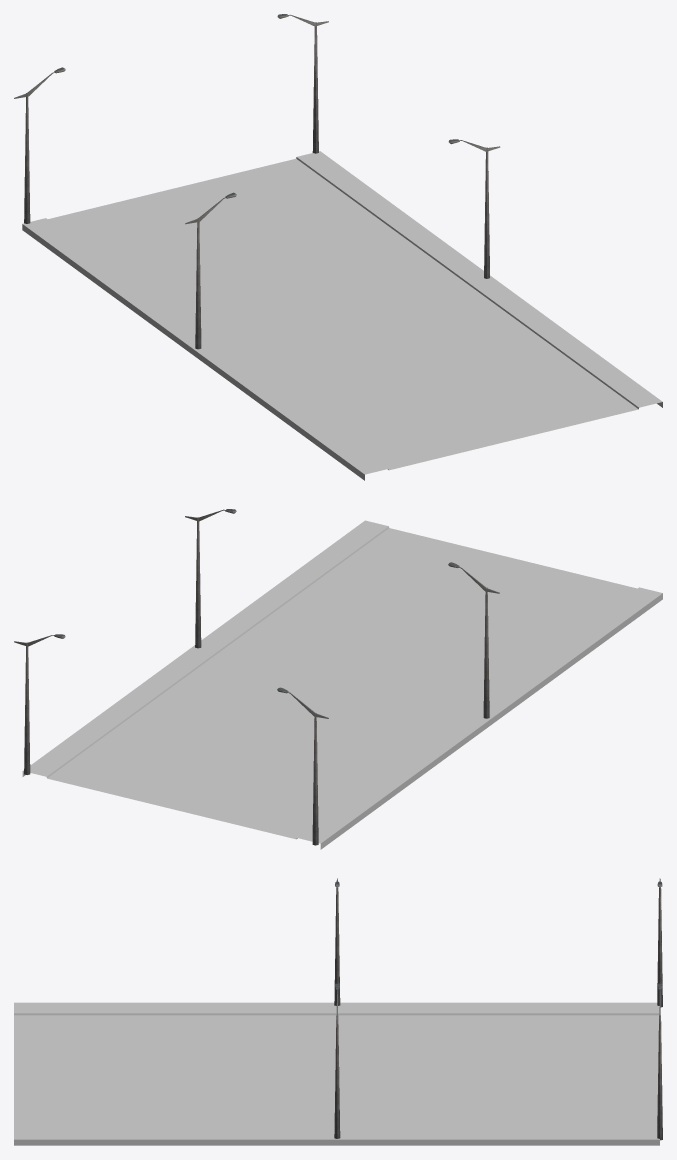
File: Big_Road_Short.FBX
3 renders of one model, top to bottom at view 1: azimuth 30°, elevation 25°; view 2: azimuth 150°, elevation 25°; view 3: azimuth 270°, elevation 25°, orthographic. The views are drawn at different scales.
Visible parts, largest first — view 1: Big_Road_Short, City094; view 2: Big_Road_Short, City094; view 3: Big_Road_Short, City094.
Boxes of the visible parts, x1,y1,x2,y2 form: Big_Road_Short: (22,151,662,480); City094: (14,14,500,349); Big_Road_Short: (22,520,662,849); City094: (14,509,499,845); Big_Road_Short: (14,1002,659,1145); City094: (334,878,662,1140).
Size of the model in its own units: 23.94 by 45.35 by 11.03.
